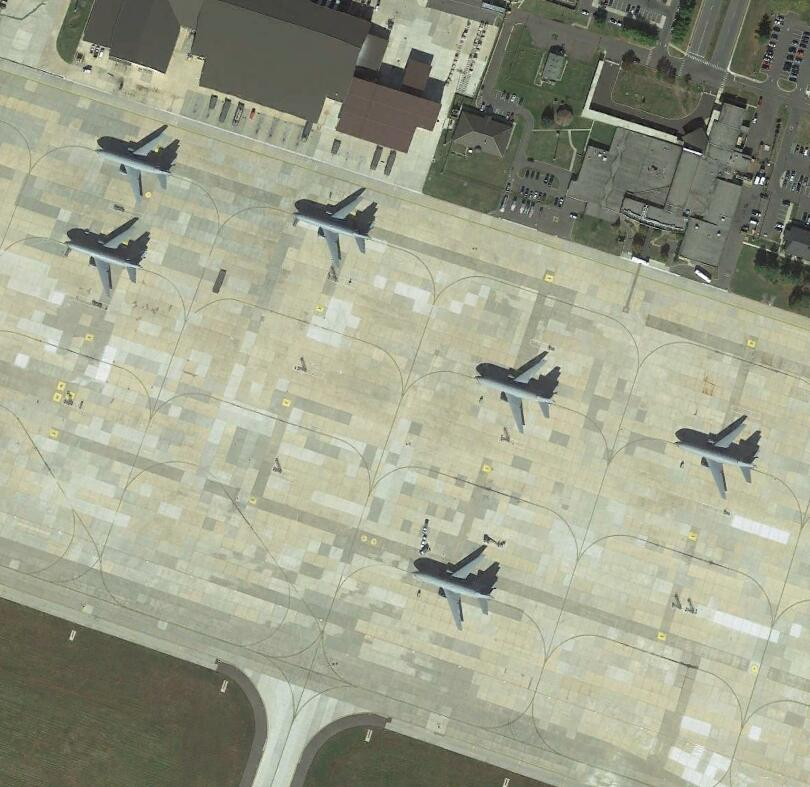A18: (675, 412, 764, 502), (293, 185, 379, 272), (474, 351, 562, 436), (414, 547, 500, 631), (94, 119, 179, 203), (67, 216, 151, 299)
